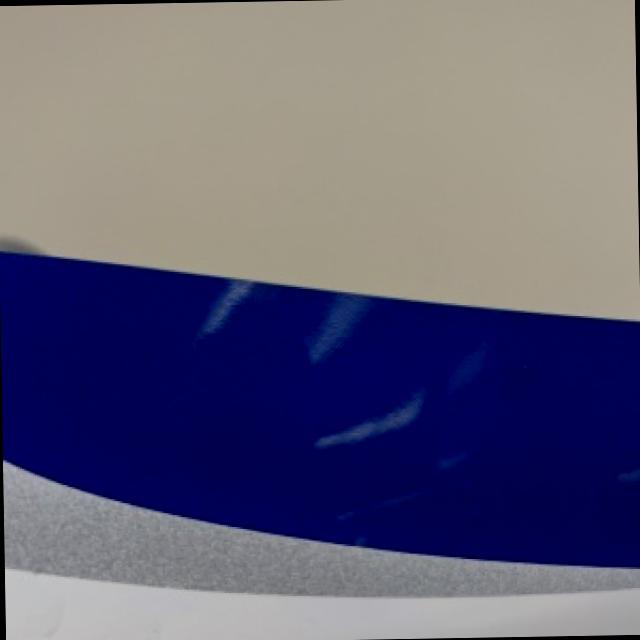healthy: (0, 252, 640, 593)
